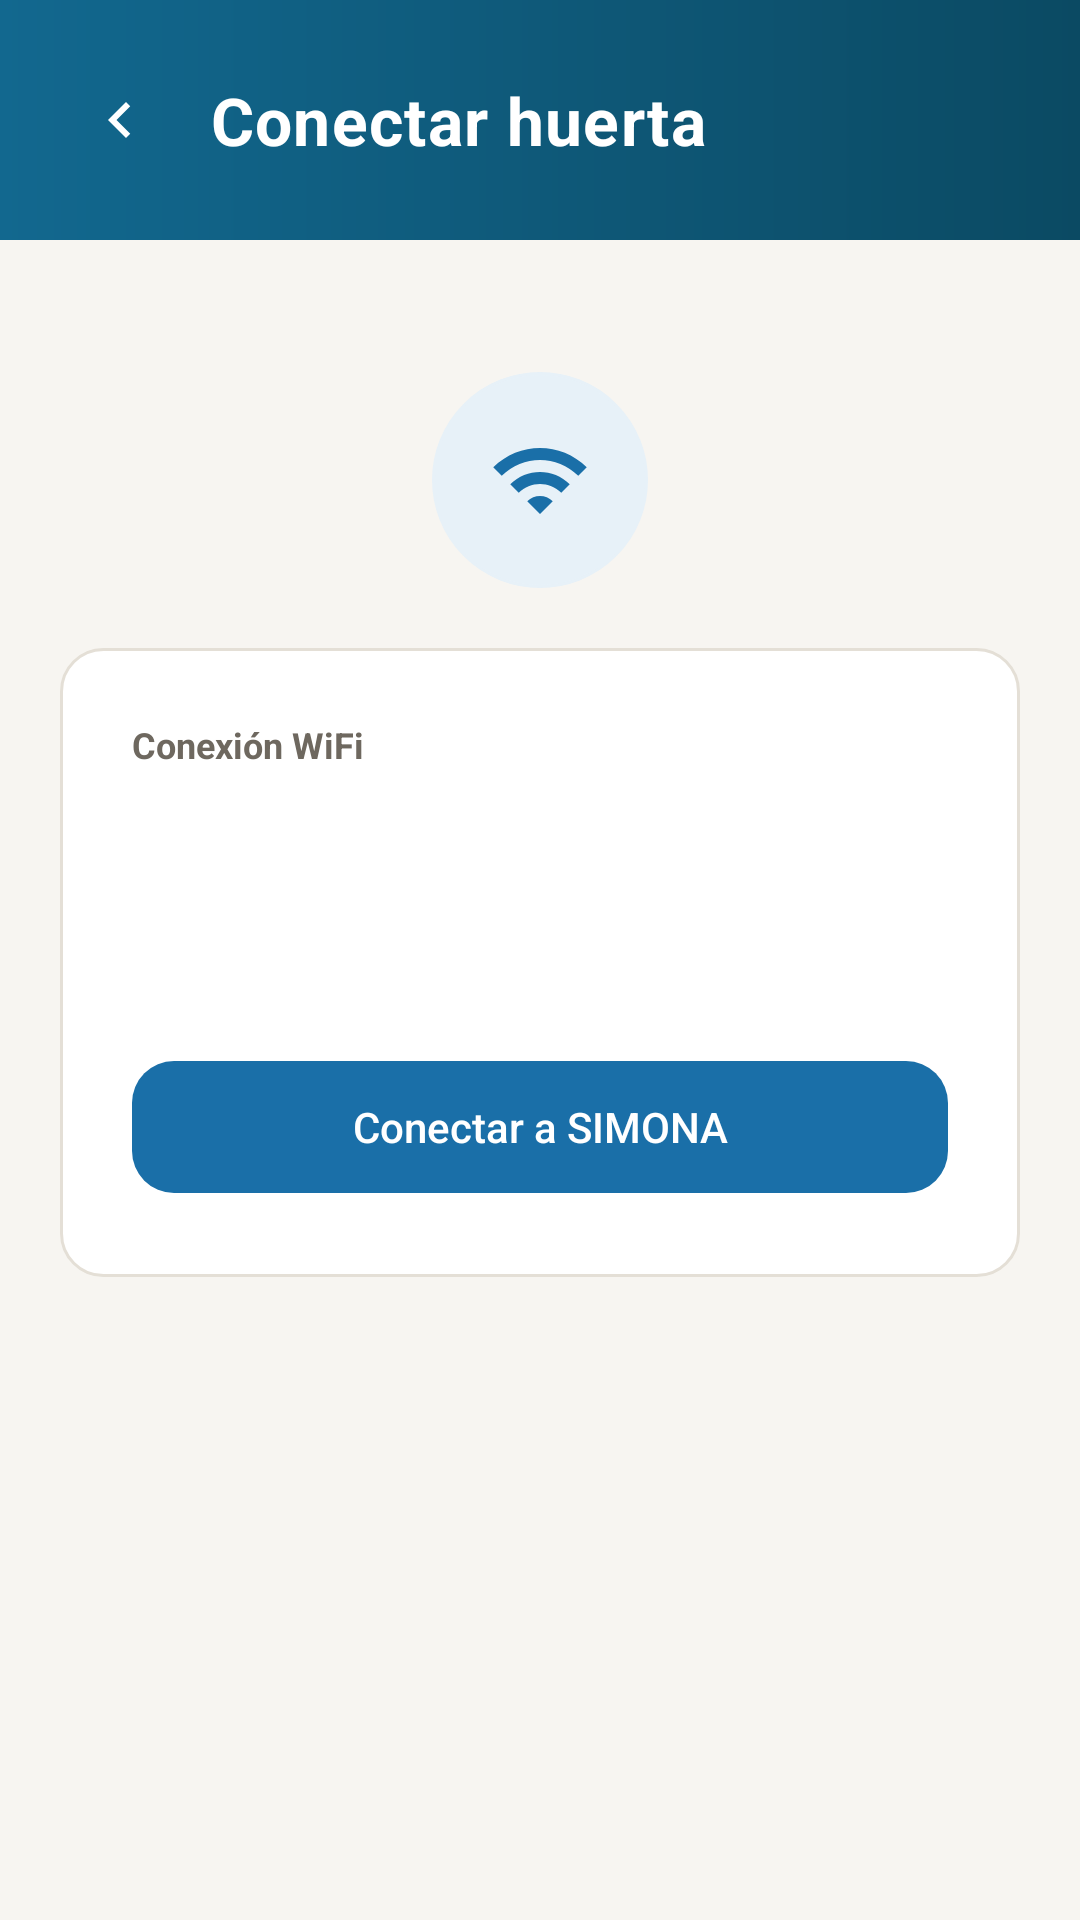

Screen size 1080 x 1920. Icon name, then its center in pixels as (x=x, y=y):
Fuerza de la señal WiFi: (x=540, y=481)
Volver: (x=119, y=120)
